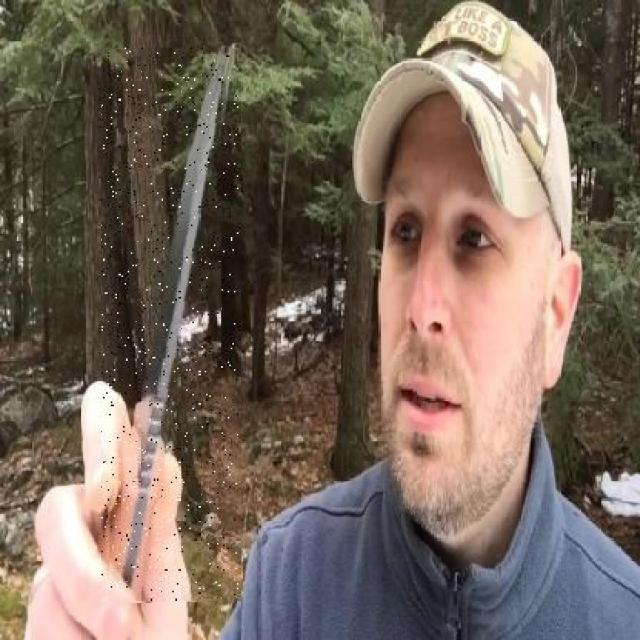knife: (100, 48, 238, 602)
